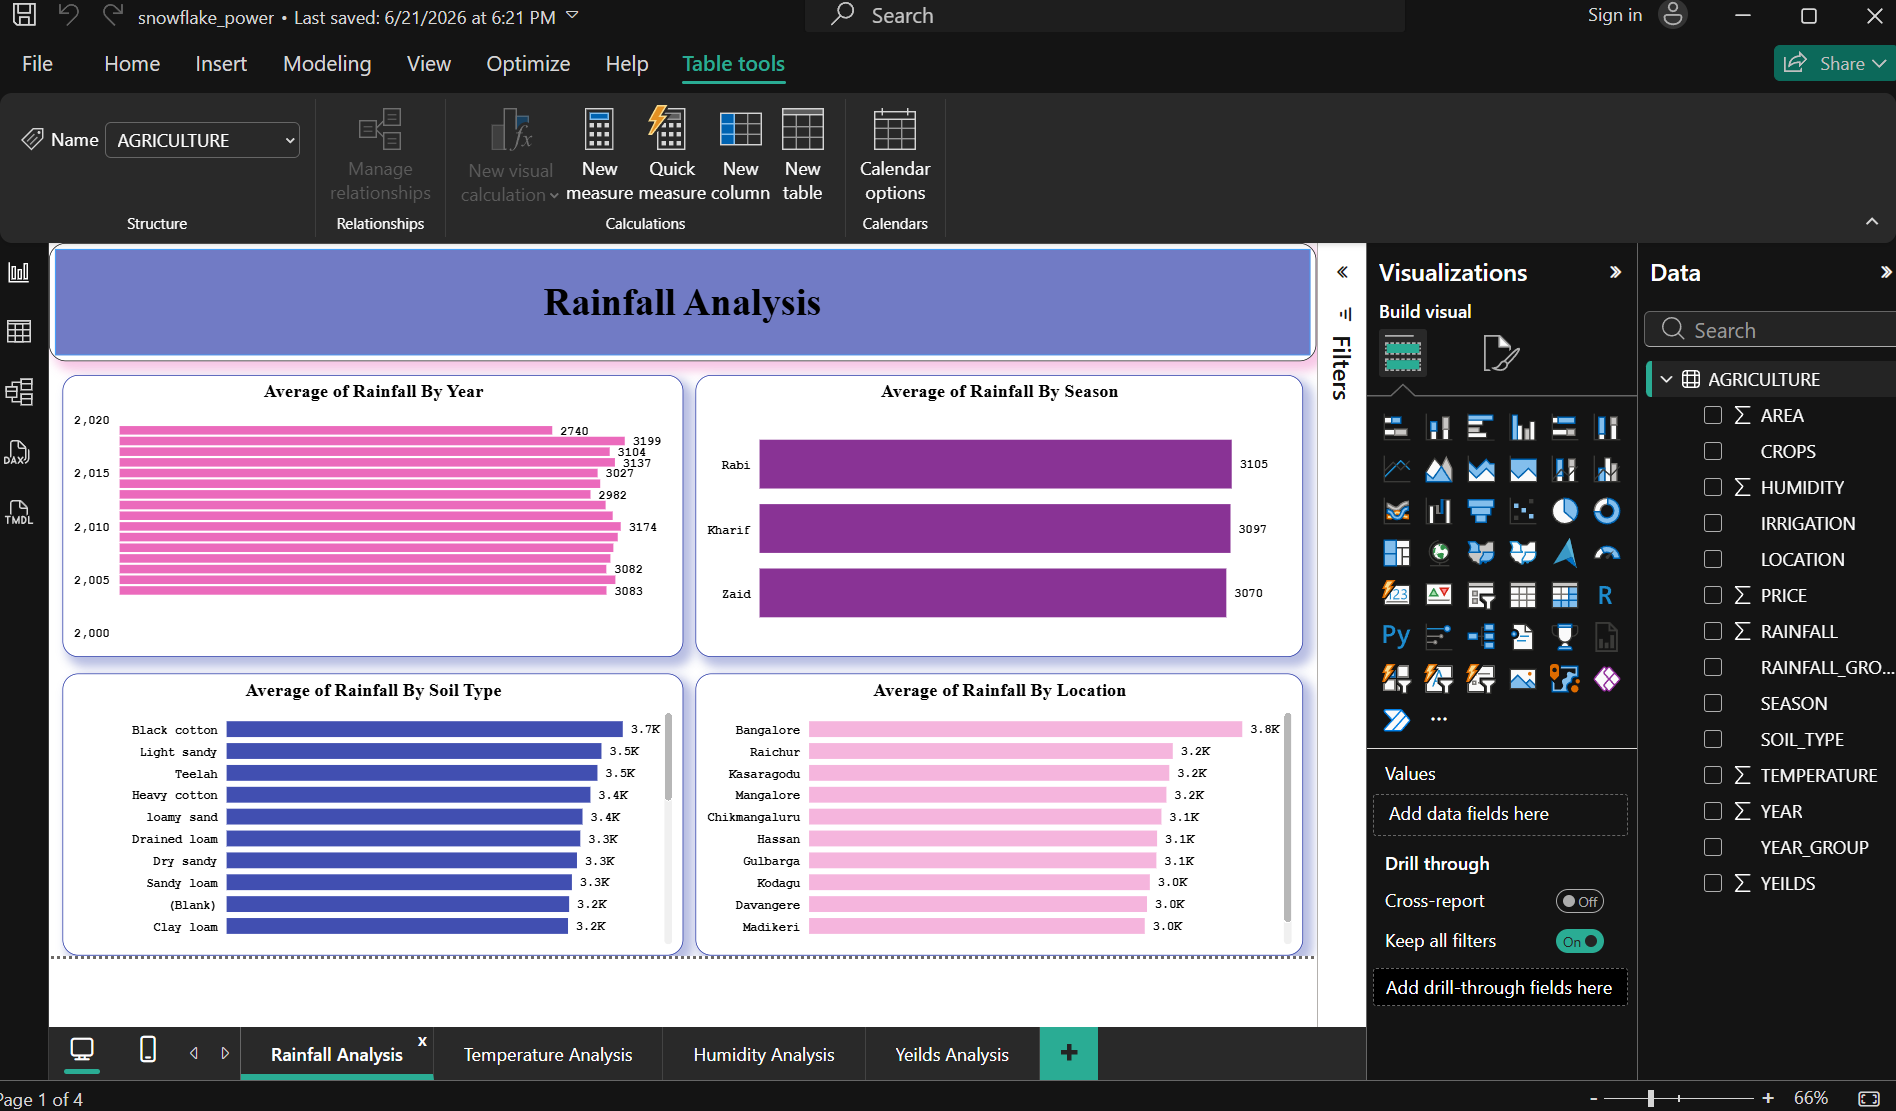

The page's visual inventory and layout, read from the dashboard file:
{"tool":"powerbi","page":{"name":"Rainfall Analysis","canvas":[1280,720],"ordinal":0},"visuals":[{"type":"shape","title":"Rainfall analysis","box":[0,0,1279.5,119.6],"z":0},{"type":"barChart","title":"Average of Rainfall By Year","fields":{"Category":["AGRICULTURE.YEAR"],"Y":["Avg(AGRICULTURE.RAINFALL)"]},"box":[13.6,133.3,626.9,284.7],"z":1},{"type":"barChart","title":"Average of Rainfall By Season","fields":{"Category":["AGRICULTURE.SEASON"],"Y":["Avg(AGRICULTURE.RAINFALL)"]},"box":[652.6,133.3,613.3,284.7],"z":2},{"type":"barChart","title":"Average of Rainfall By Soil Type","fields":{"Category":["AGRICULTURE.SOIL_TYPE"],"Y":["Avg(AGRICULTURE.RAINFALL)"]},"box":[13.6,434.6,626.9,284.7],"z":3},{"type":"barChart","title":"Average of Rainfall By Location","fields":{"Category":["AGRICULTURE.LOCATION"],"Y":["Avg(AGRICULTURE.RAINFALL)"]},"box":[652.6,434.6,613.3,284.7],"z":4}]}

Visuals, with their boxes on the page's 1280x720 design canvas (x1, y1, x2, y2). These are canvas units, not pixel positions in the 1896x1111 screenshot, which may show the page scaled, cropped or inside an application window:
"Rainfall analysis" shape: BBox(0, 0, 1280, 120)
"Average of Rainfall By Year" barChart: BBox(14, 133, 640, 418)
"Average of Rainfall By Season" barChart: BBox(653, 133, 1266, 418)
"Average of Rainfall By Soil Type" barChart: BBox(14, 435, 640, 719)
"Average of Rainfall By Location" barChart: BBox(653, 435, 1266, 719)
